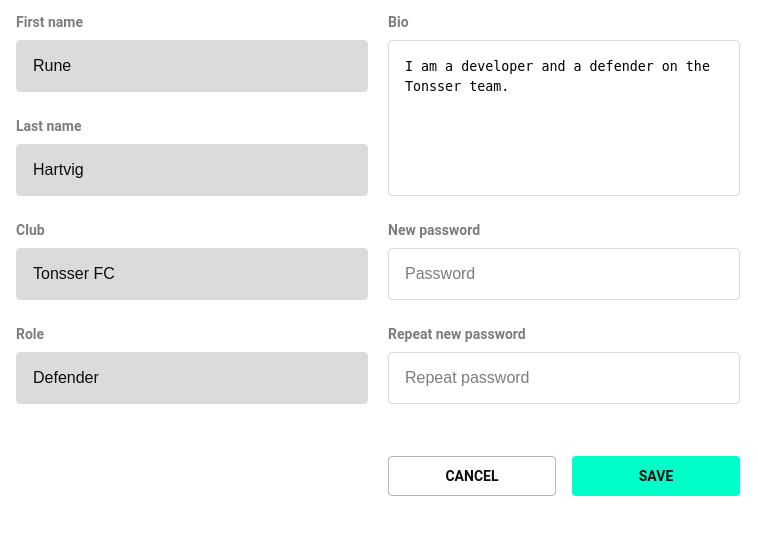
displays error message when passwords do not match and submit button is clicked
Type "12345678" into the password field labelled "New password".
click(564, 274); type("12345678")  # box [388,248,740,300]
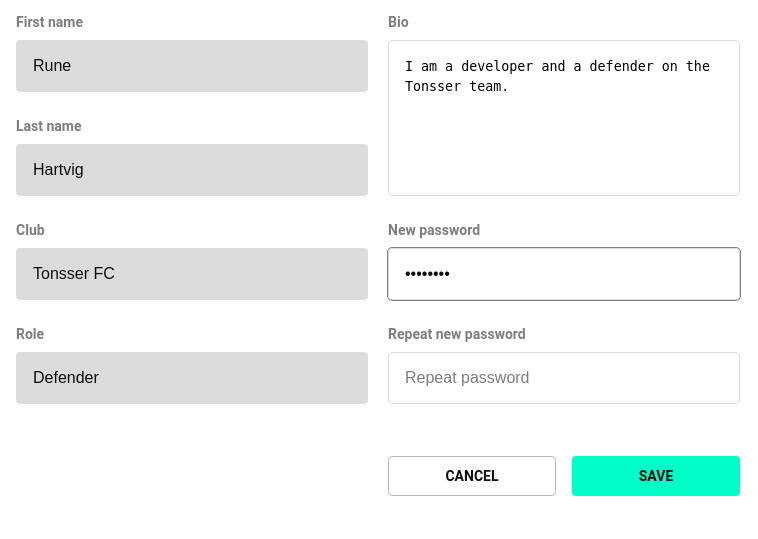
Type "123456789" into the password field labelled "Repeat new password".
click(564, 378); type("123456789")  # box [388,352,740,404]
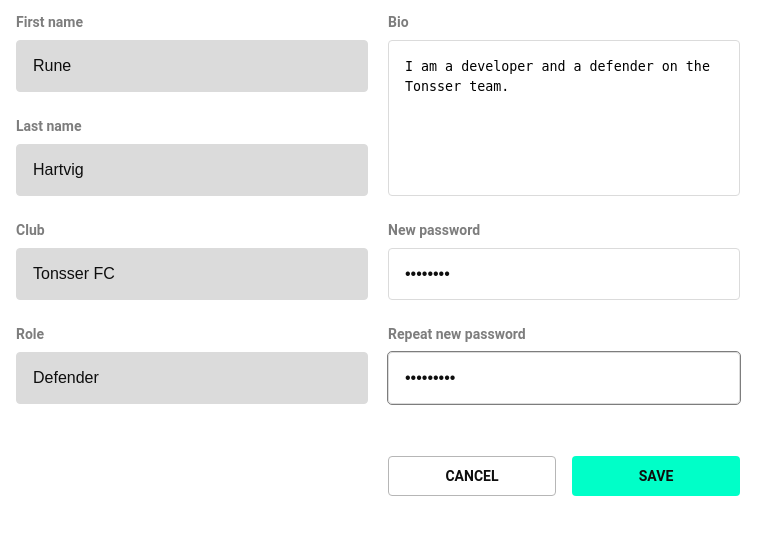
Click the button "Save".
click(656, 476)  # box [572,456,740,496]
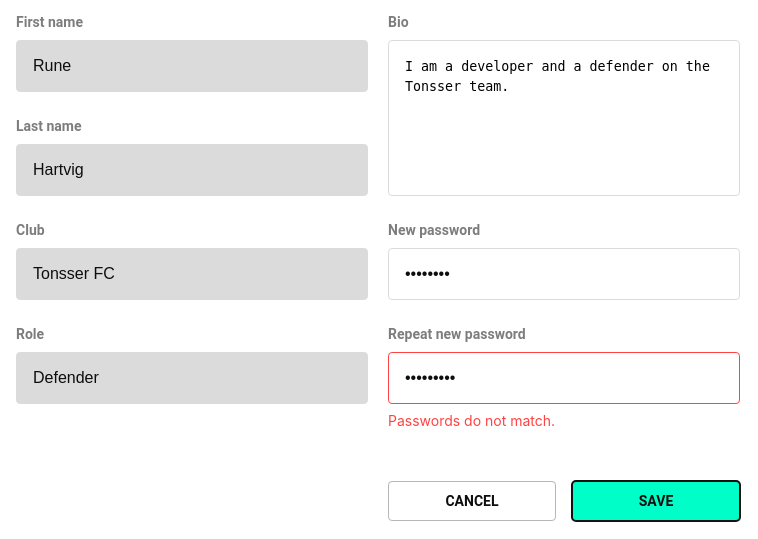
expect the text "Passwords do not match." is shown: met, box [388,412,555,429]
